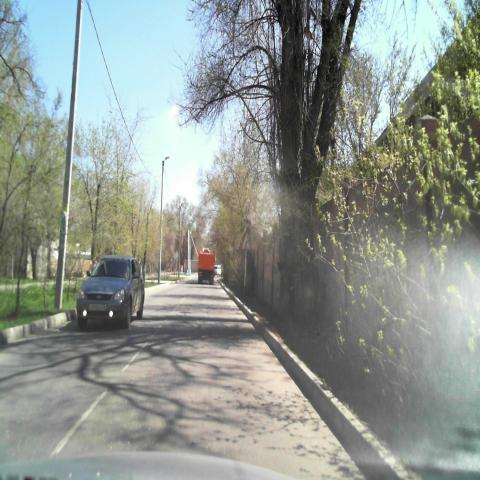1_11: (240, 232, 252, 252)
